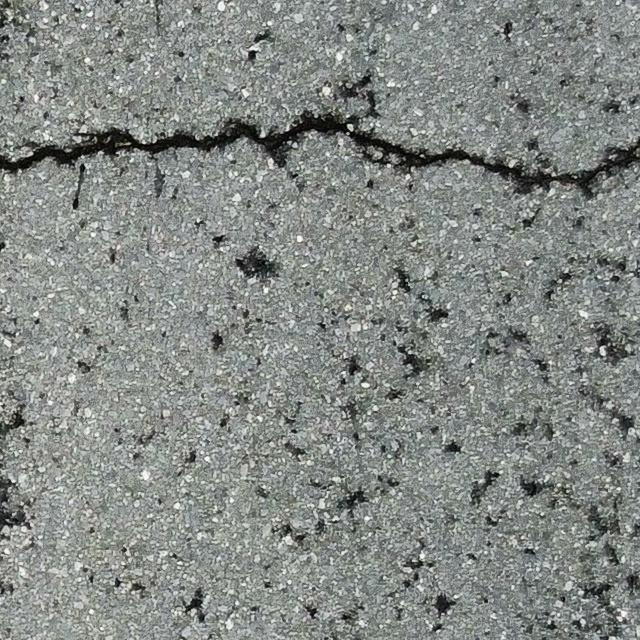TransverseCrack: (1, 112, 640, 199)
